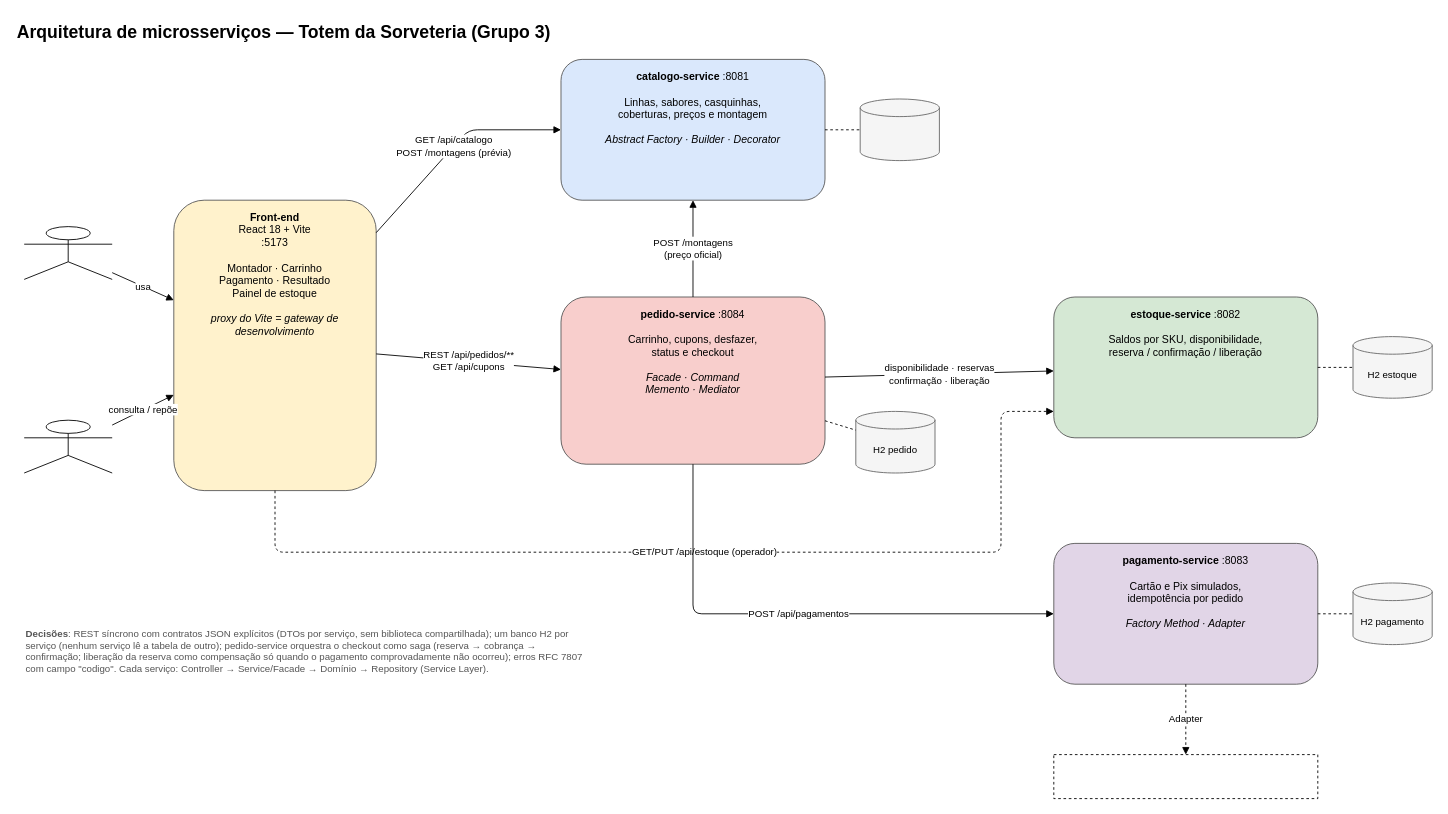
Image size: 1448x814. Some labels were removed from this diagram. Here are the shapes that lost their labels. From the top down, the box of each, then its label:
(859, 98, 939, 161): H2 catalogo
(23, 226, 112, 279): Cliente no totem
(23, 419, 112, 473): Operador da loja
(1053, 754, 1318, 799): LegacyCardProcessor (SDK simulado da operadora)
